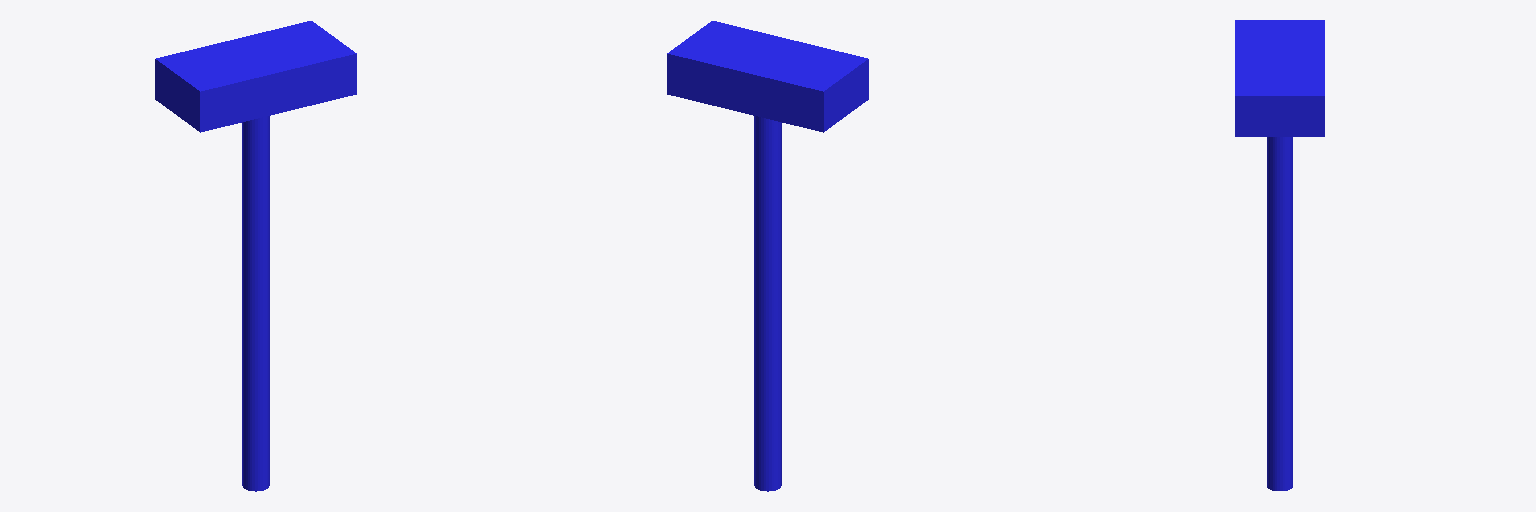
URDF robot description (inverted_pendulum):
<?xml version="1.0"?>
<robot name="inverted_pendulum">

  <ros2_control name="PendulumInterface" type="system">
    <hardware>
      <plugin>hardware_interfaces/PendulumHardwareInterface</plugin>
        <param name="if_ground_truth">1</param>
    </hardware>

    <joint name="pivot">
      <command_interface name="effort"/>
      <state_interface name="position"/>
      <state_interface name="velocity"/>
      <state_interface name="effort"/>
    </joint>

    <sensor name="tip_sensor">
      <state_interface name="y"/>
      <state_interface name="z"/>
      <state_interface name="vy"/>
      <state_interface name="vz"/>
    </sensor>

  </ros2_control> 
  <!-- Base Link (Fixed to world) -->
  <link name="base_link">
    <inertial>
      <origin xyz="0 0 0" rpy="0 0 0"/>
      <mass value="2.0"/>
      <inertia ixx="0.02" ixy="0.0" ixz="0.0" iyy="0.02" iyz="0.0" izz="0.02"/>
    </inertial>
    <visual>
      <origin xyz="0 0 0" rpy="0 0 0"/>
      <geometry>
        <box size="0.4 0.2 0.1"/>
      </geometry>
      <material name="blue">
        <color rgba="0.2 0.2 1 1"/>
      </material>
    </visual>
    <collision>
      <origin xyz="0 0 0" rpy="0 0 0"/>
      <geometry>
        <box size="0.4 0.2 0.1"/>
      </geometry>
    </collision>
  </link>

  <!-- Pendulum Link -->
  <link name="pendulum_link">
    <inertial>
      <mass value="1.0"/>
      <origin xyz="0 0 -0.5" rpy="0 0 0"/>
      <inertia ixx="0.01" iyy="0.01" izz="0.0001"
               ixy="0" ixz="0" iyz="0"/>
    </inertial>
    <visual>
      <origin xyz="0 0 -0.5" rpy="0 0 0"/>
      <geometry>
        <cylinder radius="0.03" length="1.0"/>
      </geometry>
      <material name="blue">
        <color rgba="0.2 0.2 1.0 1"/>
      </material>
    </visual>
    <collision>
      <origin xyz="0 0 -0.5" rpy="0 0 0"/>
      <geometry>
        <cylinder radius="0.03" length="1.0"/>
      </geometry>
    </collision>
  </link>

  <!-- Revolute Joint -->
  <joint name="pivot" type="revolute">
    <parent link="base_link"/>
    <child link="pendulum_link"/>
    <origin xyz="0 0 0.0" rpy="0 0 0"/>
    <axis xyz="0 1 0"/> <!-- rotation around Y axis (2D plane X-Z) -->
    <limit lower="-3.14" upper="3.14" effort="10.0" velocity="5.0"/>
    <dynamics damping="0.0" friction="0.0"/>
  </joint>

</robot>

--- What the picture shows (computed from the rendered views, not written in the file) ---
3 views of the same robot in one strip: view 1: azimuth 30°, elevation 25°; view 2: azimuth 150°, elevation 25°; view 3: azimuth 270°, elevation 25° (orthographic).
Model inverted_pendulum with 2 links and 1 joints (1 revolute), rooted at base_link, posed every joint at zero.
Visible links, largest first — view 1: base_link, pendulum_link; view 2: base_link, pendulum_link; view 3: base_link, pendulum_link.
Link boxes in pixels (x1=…): base_link: x1=155, y1=21, x2=356, y2=132; pendulum_link: x1=242, y1=116, x2=269, y2=491; base_link: x1=667, y1=21, x2=868, y2=132; pendulum_link: x1=754, y1=116, x2=781, y2=491; base_link: x1=1235, y1=20, x2=1324, y2=136; pendulum_link: x1=1267, y1=137, x2=1292, y2=490.
Size in the robot's own frame: 0.4 by 0.2 by 1.05 metres.
Geometry: primitives only (box / cylinder / sphere), no mesh files.
